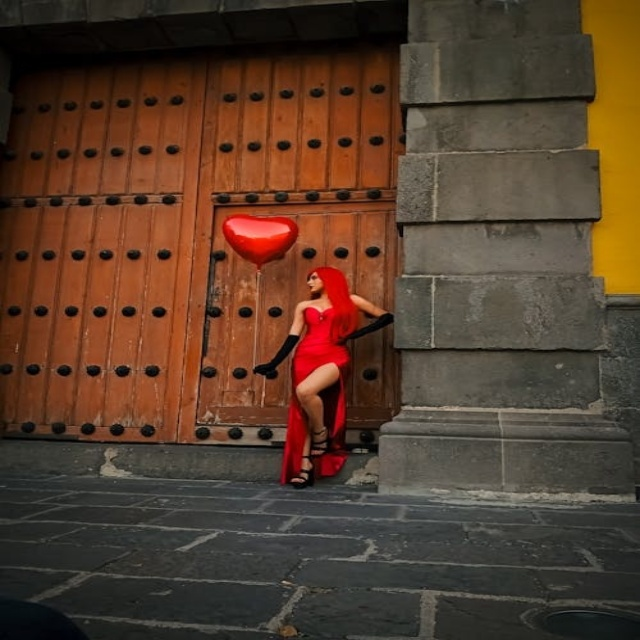Guantes: (253, 334, 301, 379), (343, 312, 395, 344)
Sin_gafas: (306, 273, 320, 280)
Sin_mascara: (305, 281, 317, 290)
